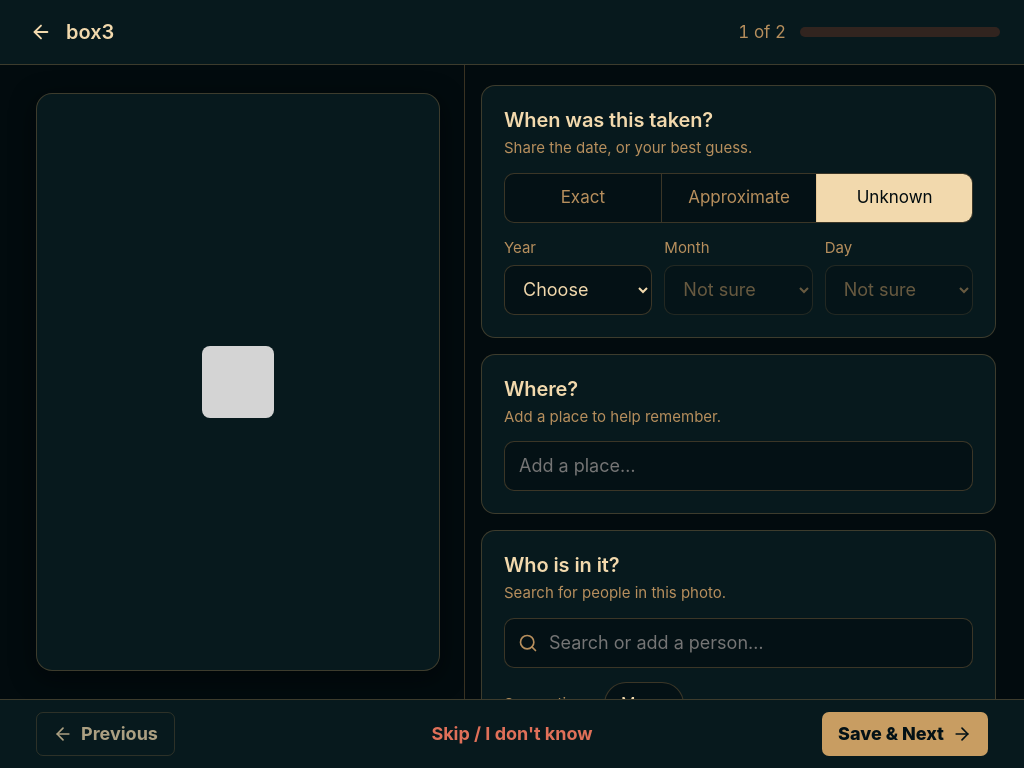
Test: ReviewPage › 'I don't know' marks the photo without saving anything, and the end shows a thank-you
Expected: the text "1 of 2" is shown, [738,20,786,44]
Click the button "Skip / I don't know": [512, 734] box [407,716,617,752]
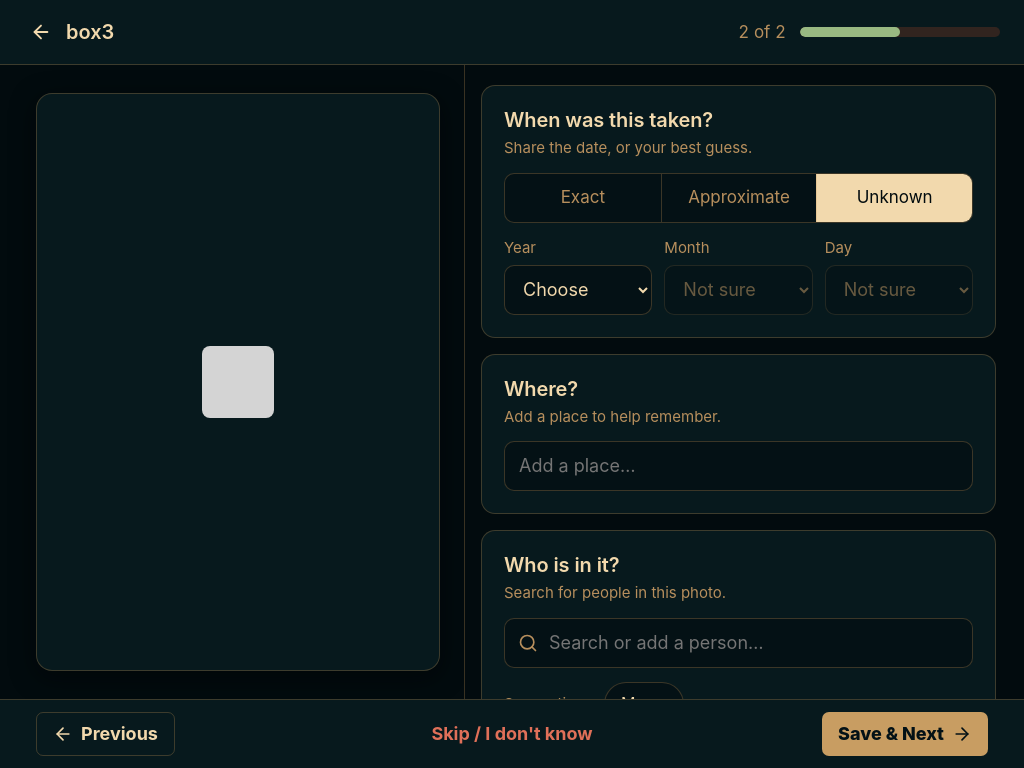
Expected: the text "2 of 2" is shown, [738,20,786,44]
Click the button "Skip / I don't know": [512, 734] box [407,716,617,752]
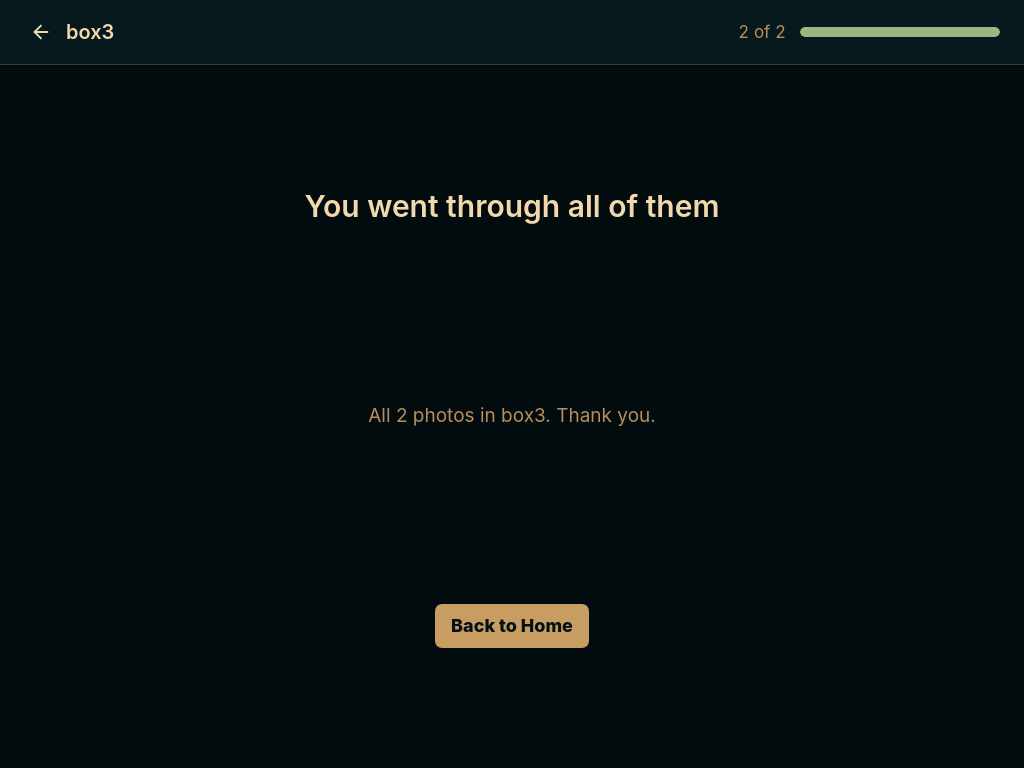
Expected: the heading "You went through all of them" is shown, [304,185,720,228]
